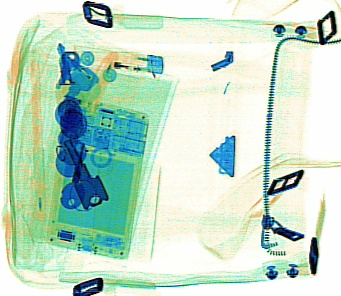lighter: (69, 43, 164, 77)
